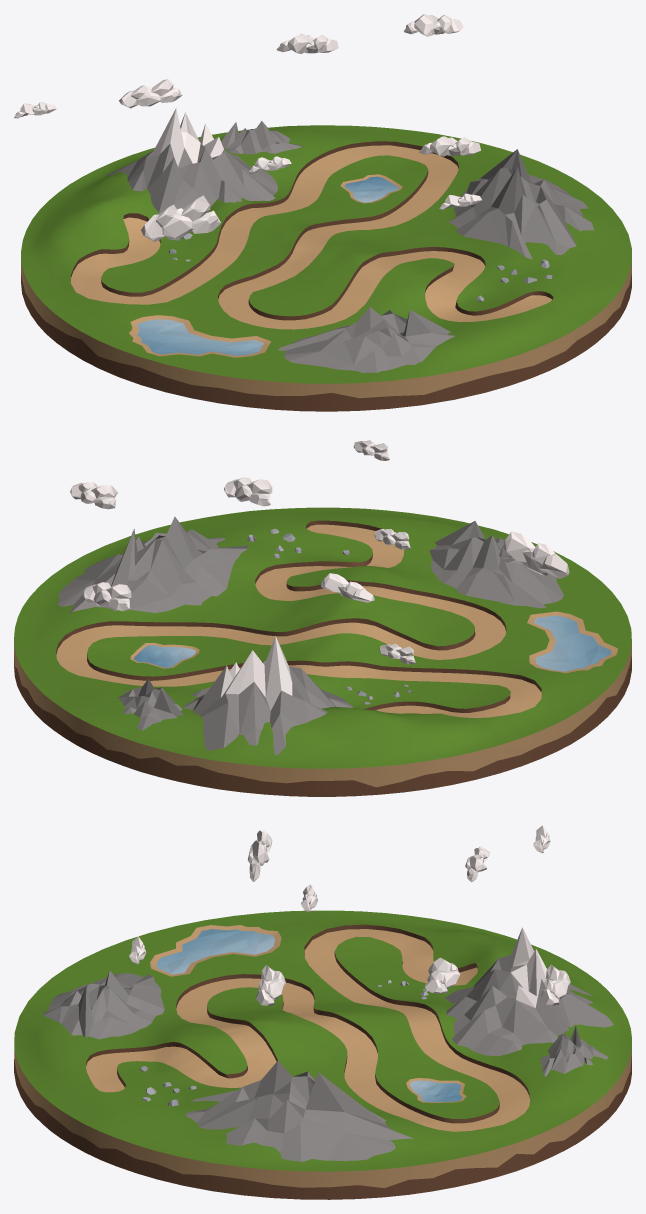
The model's file is Landscape.fbx.
The picture shows the model from 3 angles, top to bottom: view 1: azimuth 30°, elevation 25°; view 2: azimuth 150°, elevation 25°; view 3: azimuth 270°, elevation 25°; orthographic projection.
Visible parts, largest first — view 1: Terrain, Clouds; view 2: Terrain, Clouds; view 3: Terrain, Clouds.
Boxes of the visible parts, bbox=[...] form: Terrain: bbox=[21, 108, 631, 411]; Clouds: bbox=[14, 14, 481, 241]; Terrain: bbox=[14, 507, 631, 796]; Clouds: bbox=[70, 440, 569, 664]; Terrain: bbox=[14, 910, 631, 1199]; Clouds: bbox=[129, 825, 570, 1005].
Bounding box in the file's own units: 49.69 × 16.59 × 49.69.
